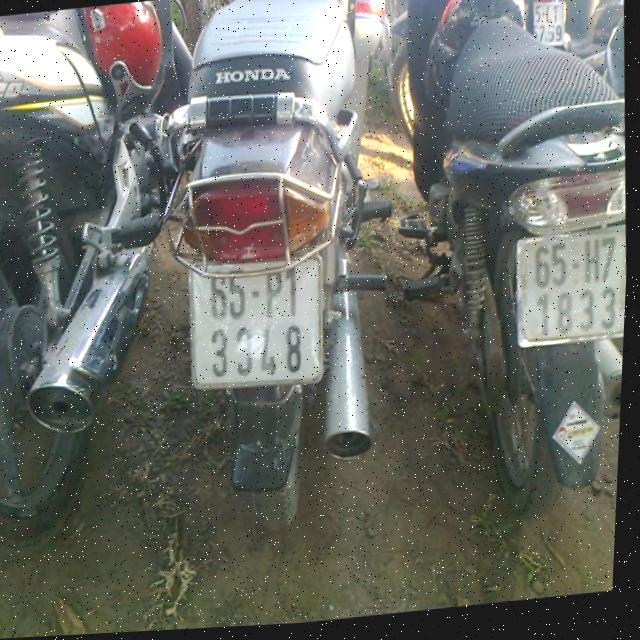motorcycle: (366, 0, 640, 551), (142, 0, 416, 520), (0, 0, 216, 574)
plate: (172, 239, 337, 402), (499, 219, 629, 356)
